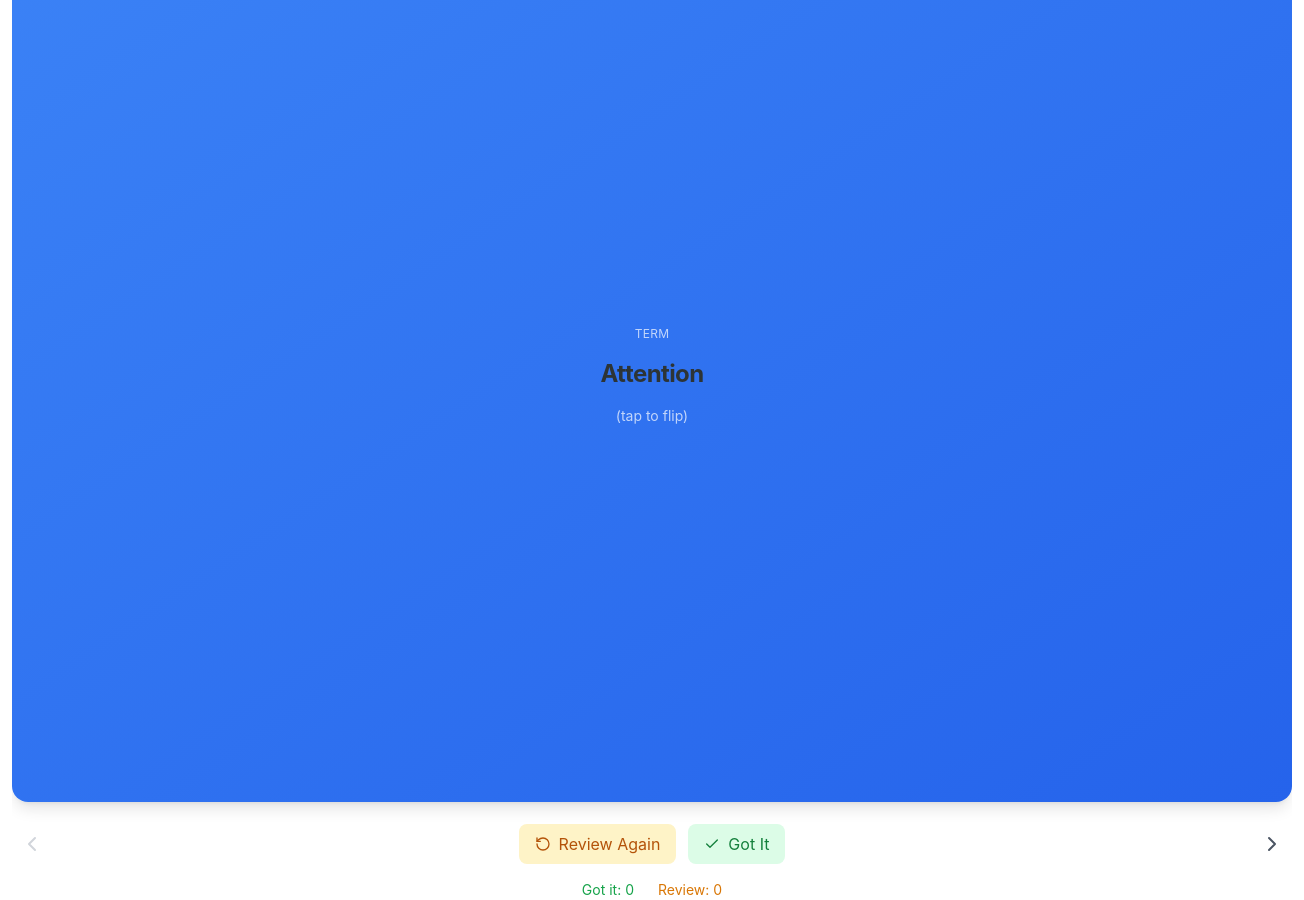
Scenario: FlashcardDeck › shows Review count
(page scrolled)
Expected: the text "Review: 0" is shown, [658, 880, 722, 899]
Step 1. Click the button with test id "review-again-button" → (598, 844), box [519, 824, 676, 864]
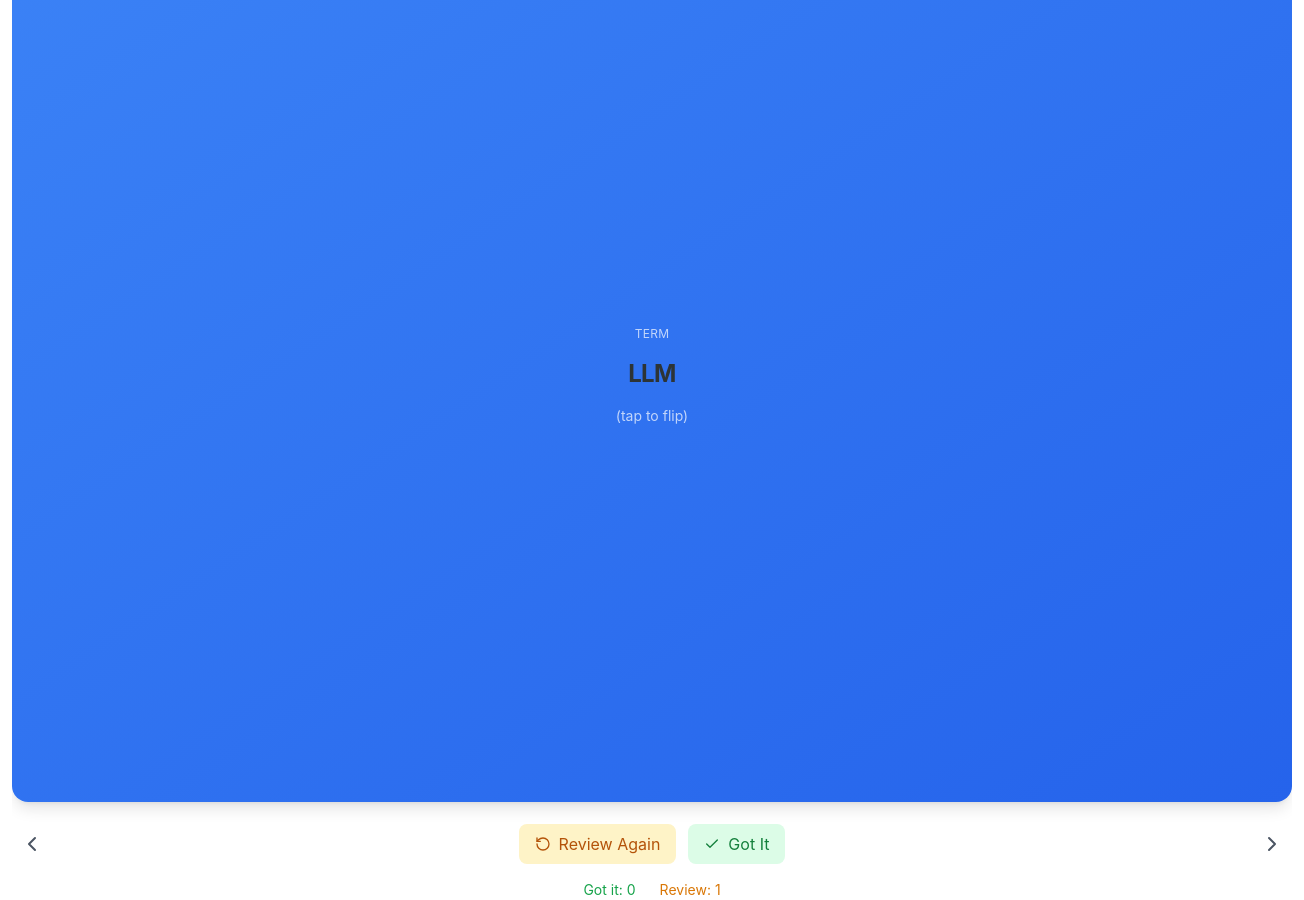
Expected: the text "Review: 1" is shown, [660, 880, 721, 899]
